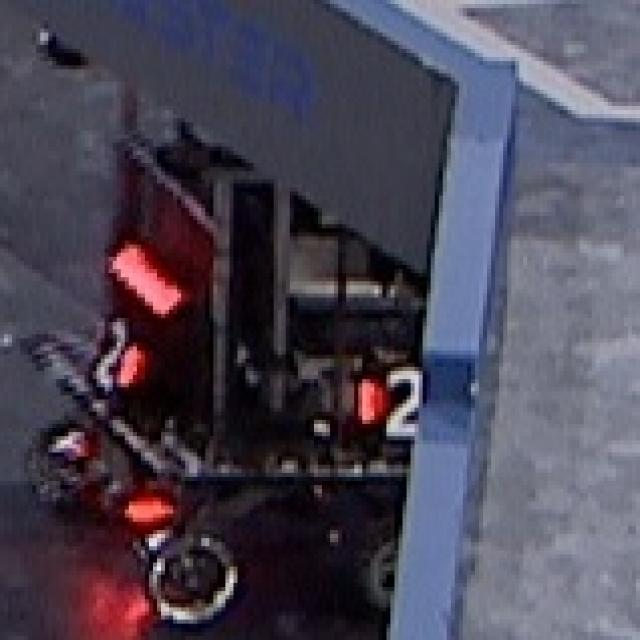R2: (350, 363, 435, 440), (88, 314, 137, 391)
